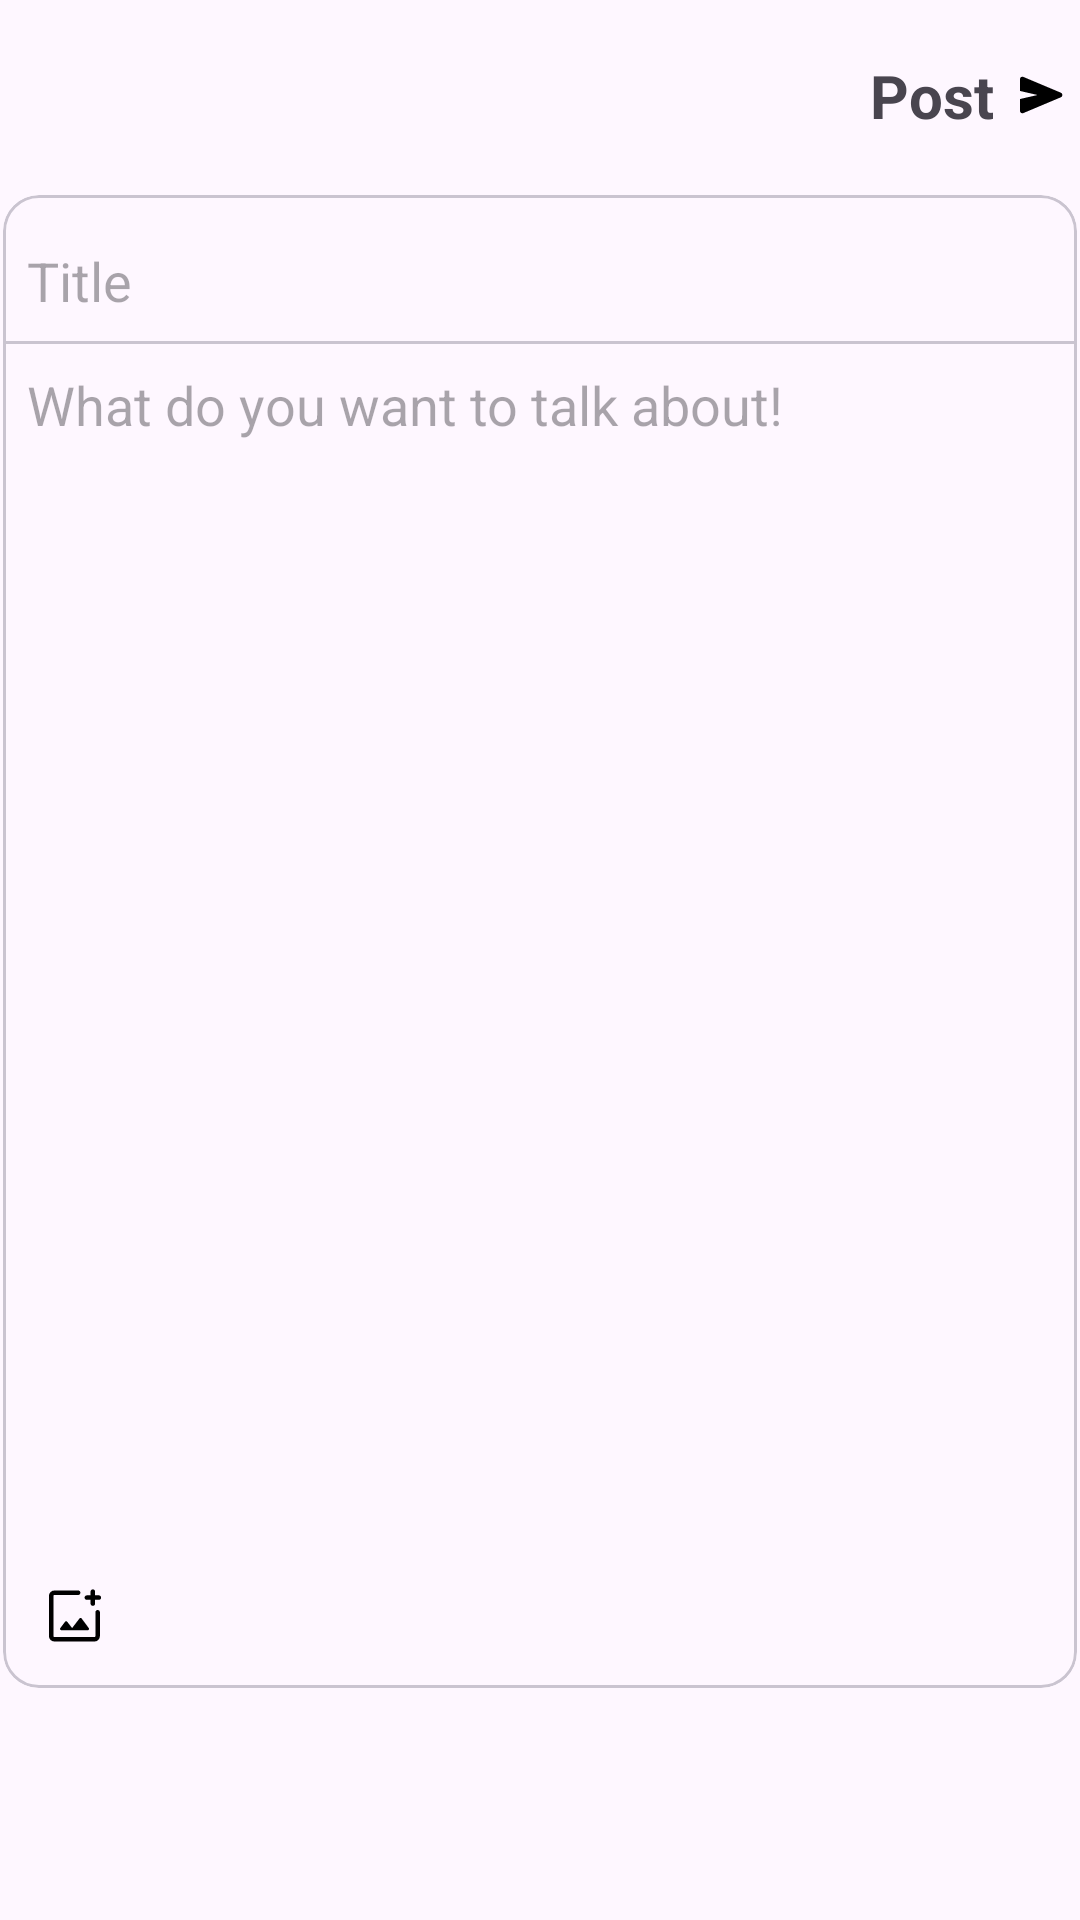

Screen size 1080w x 1920h. Icon name, then its box in pixels as bbox=[x1, y1, x2, y2]:
Insert Image: bbox=[49, 1589, 101, 1642]
